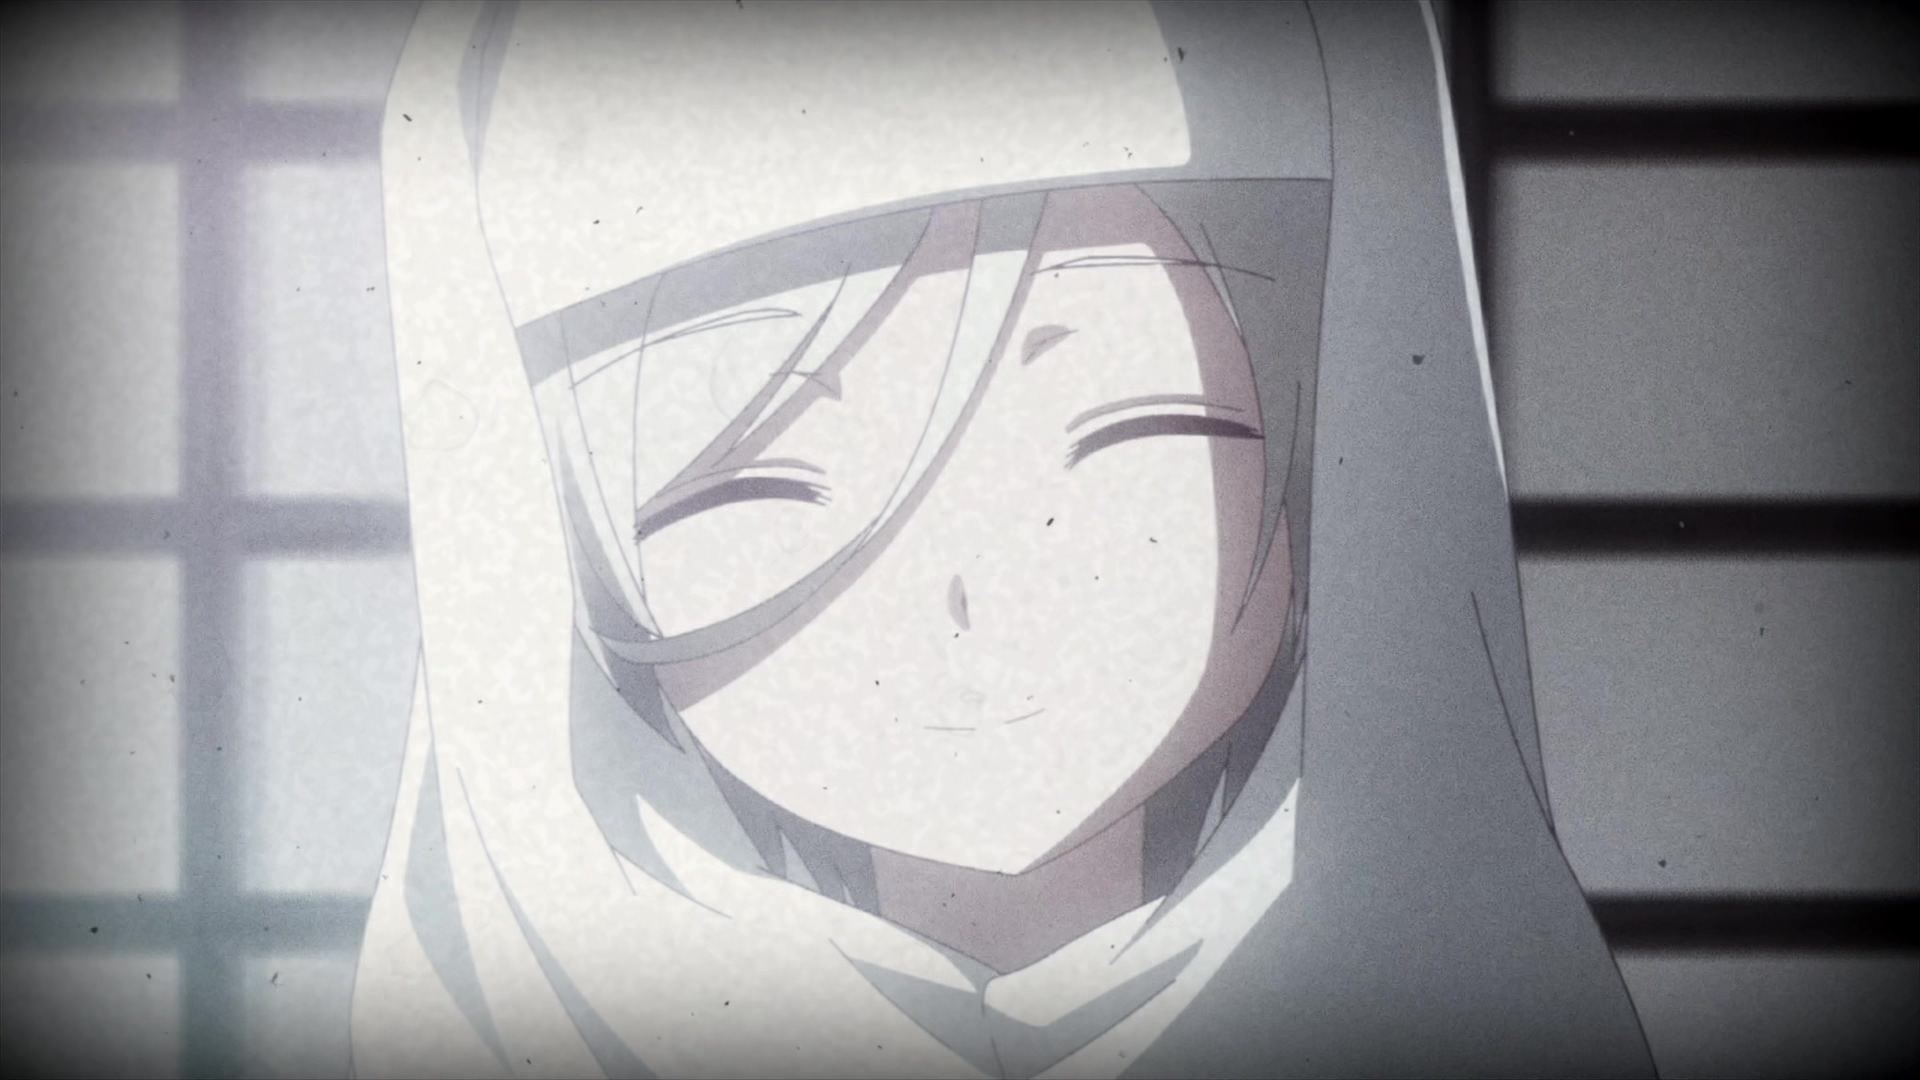八百比丘尼: (349, 1, 1665, 1080)
